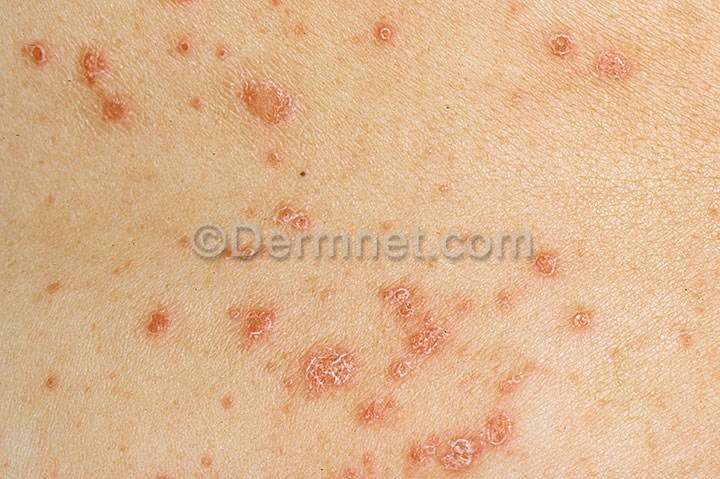Psoriasis: (209, 268, 535, 469), (18, 15, 350, 170), (500, 221, 629, 349), (536, 14, 648, 95), (97, 276, 200, 353), (246, 179, 329, 242), (353, 5, 415, 68)
